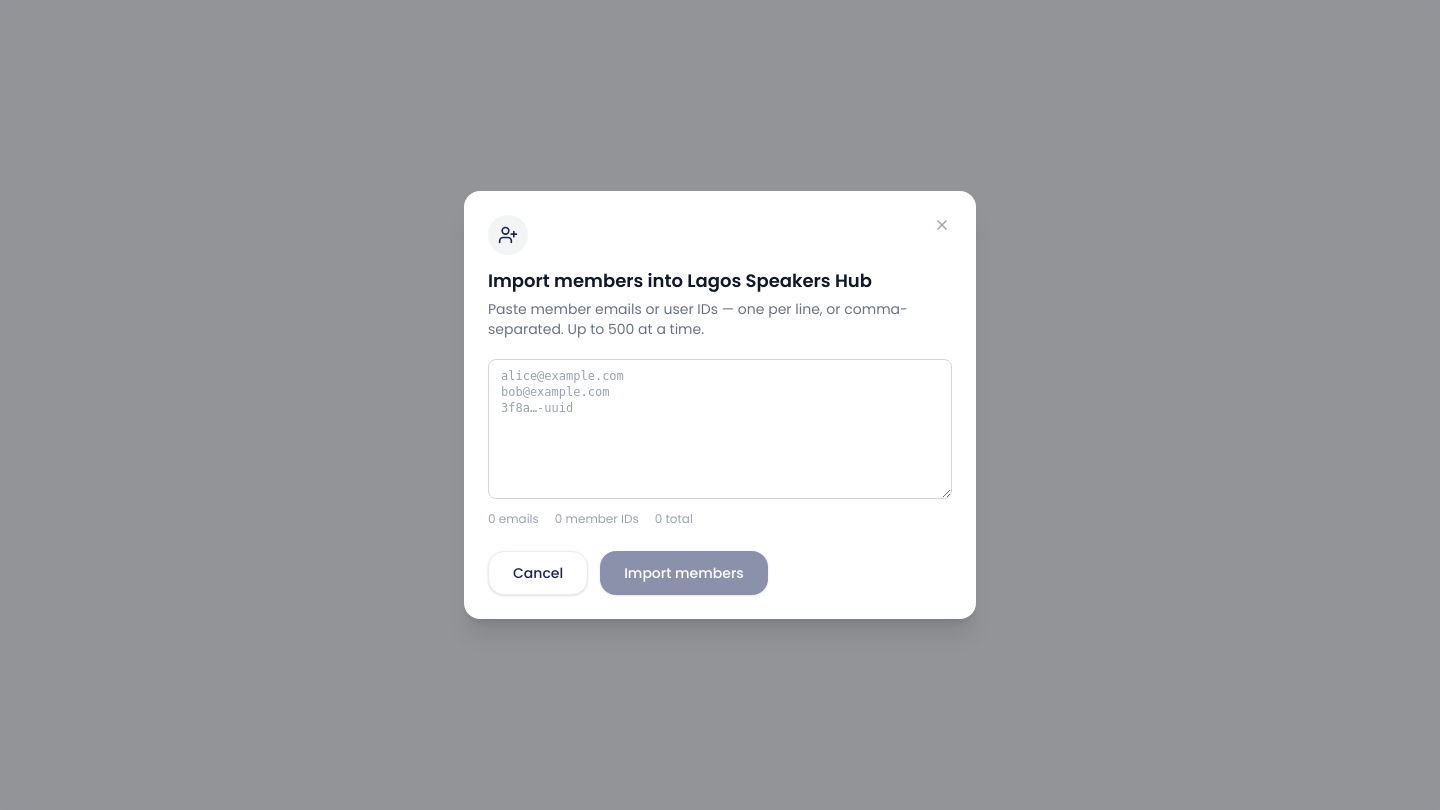
Test: ImportMembersModal › shows the backend error message on failure
Type "alice@example.com" into the text box named "Member emails or IDs" at (720, 429), box [488, 359, 952, 499]
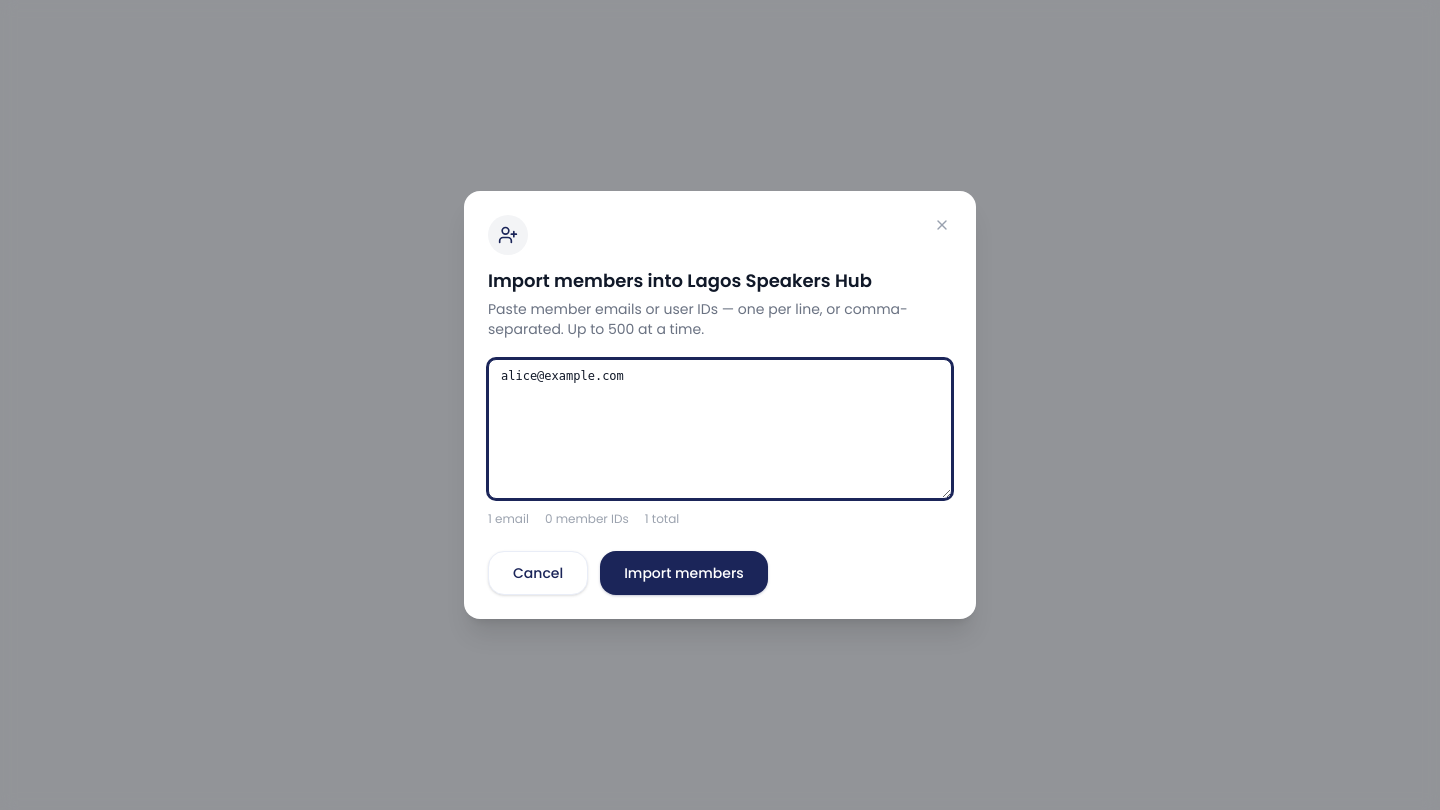
Click the button "Import members" at (684, 573), box [600, 551, 768, 595]
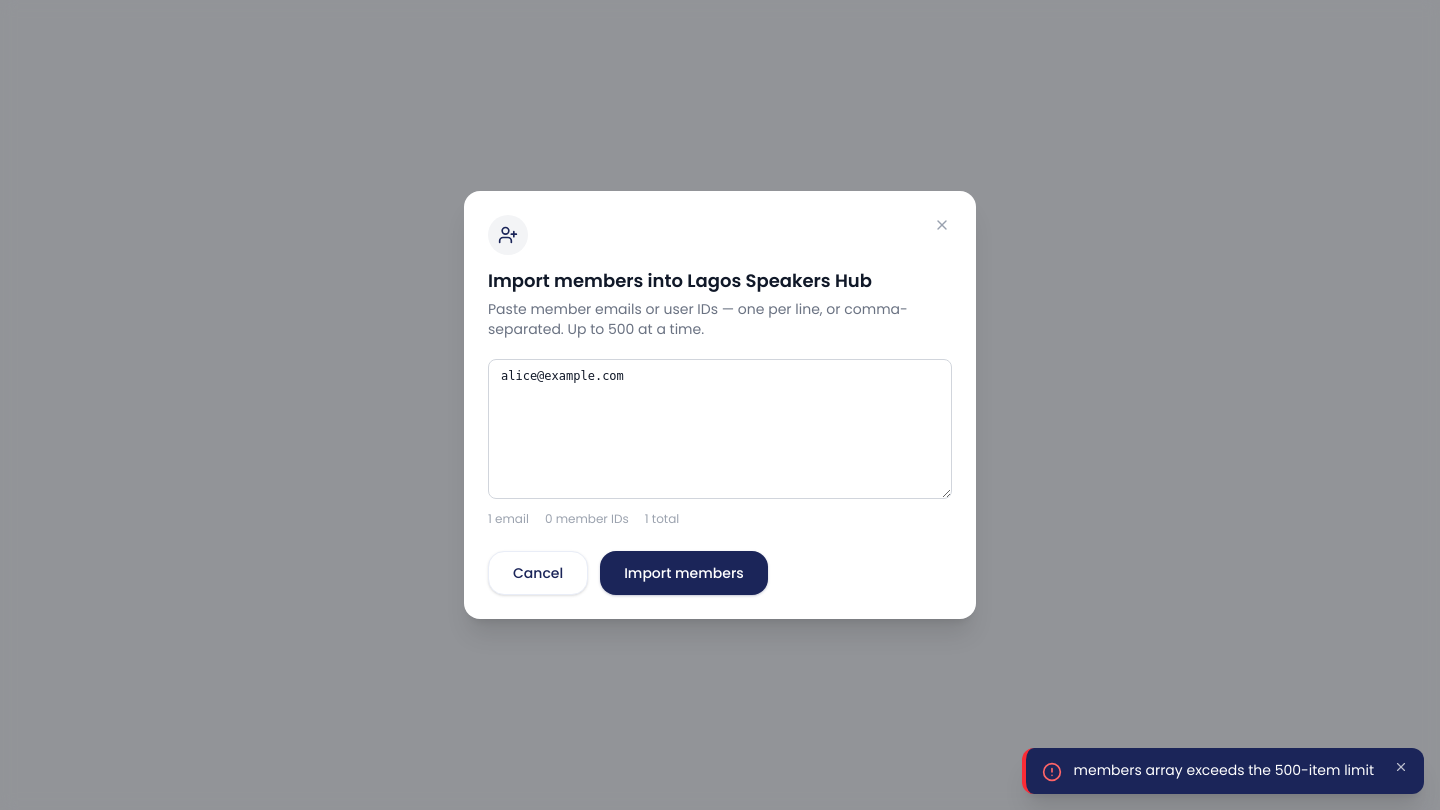
Expected: the text "members array exceeds the 500-item limit" is shown, [1074, 760, 1374, 780]
